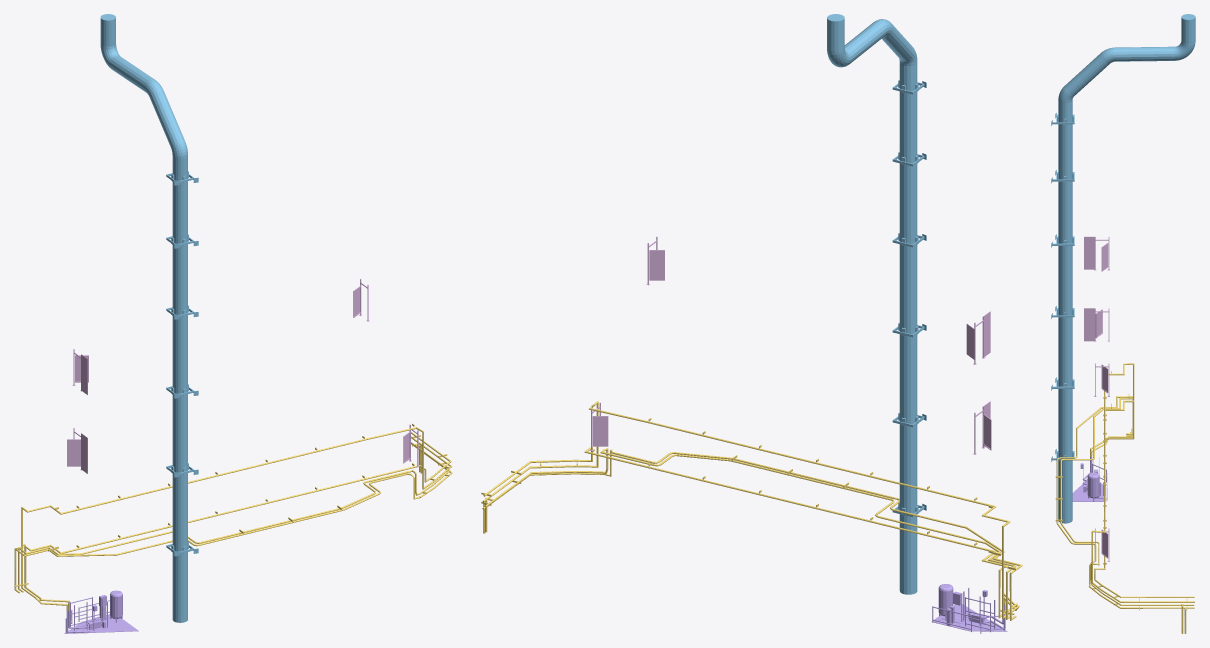
File: HO-side-A-Services.glb
3 renders of one model, left to right at view 1: azimuth 30°, elevation 25°; view 2: azimuth 150°, elevation 25°; view 3: azimuth 270°, elevation 25°, orthographic. The views are drawn at different scales.
Visible parts, largest first — view 1: _000002C6AF6FC7D0_IndexedFaceSet, _000002C6AF711D10_IndexedFaceSet, _000002C6AF70C670_IndexedFaceSet, _000002C6AF711920_IndexedFaceSet; view 2: _000002C6AF6FC7D0_IndexedFaceSet, _000002C6AF711D10_IndexedFaceSet, _000002C6AF70C670_IndexedFaceSet, _000002C6AF711920_IndexedFaceSet; view 3: _000002C6AF6FC7D0_IndexedFaceSet, _000002C6AF711D10_IndexedFaceSet, _000002C6AF70C670_IndexedFaceSet, _000002C6AF711920_IndexedFaceSet.
Part boxes in pixels (x1=…): _000002C6AF6FC7D0_IndexedFaceSet: x1=100, y1=14, x2=198, y2=622; _000002C6AF711D10_IndexedFaceSet: x1=14, y1=423, x2=452, y2=610; _000002C6AF70C670_IndexedFaceSet: x1=67, y1=279, x2=419, y2=473; _000002C6AF711920_IndexedFaceSet: x1=64, y1=590, x2=138, y2=633; _000002C6AF6FC7D0_IndexedFaceSet: x1=827, y1=14, x2=926, y2=594; _000002C6AF711D10_IndexedFaceSet: x1=481, y1=401, x2=1022, y2=620; _000002C6AF70C670_IndexedFaceSet: x1=590, y1=236, x2=991, y2=454; _000002C6AF711920_IndexedFaceSet: x1=931, y1=584, x2=1007, y2=633; _000002C6AF6FC7D0_IndexedFaceSet: x1=1051, y1=14, x2=1195, y2=523; _000002C6AF711D10_IndexedFaceSet: x1=1055, y1=363, x2=1194, y2=633; _000002C6AF70C670_IndexedFaceSet: x1=1084, y1=236, x2=1109, y2=561; _000002C6AF711920_IndexedFaceSet: x1=1072, y1=456, x2=1107, y2=501.
Size of the model in its own units: 28.97 by 35.11 by 9.14.
